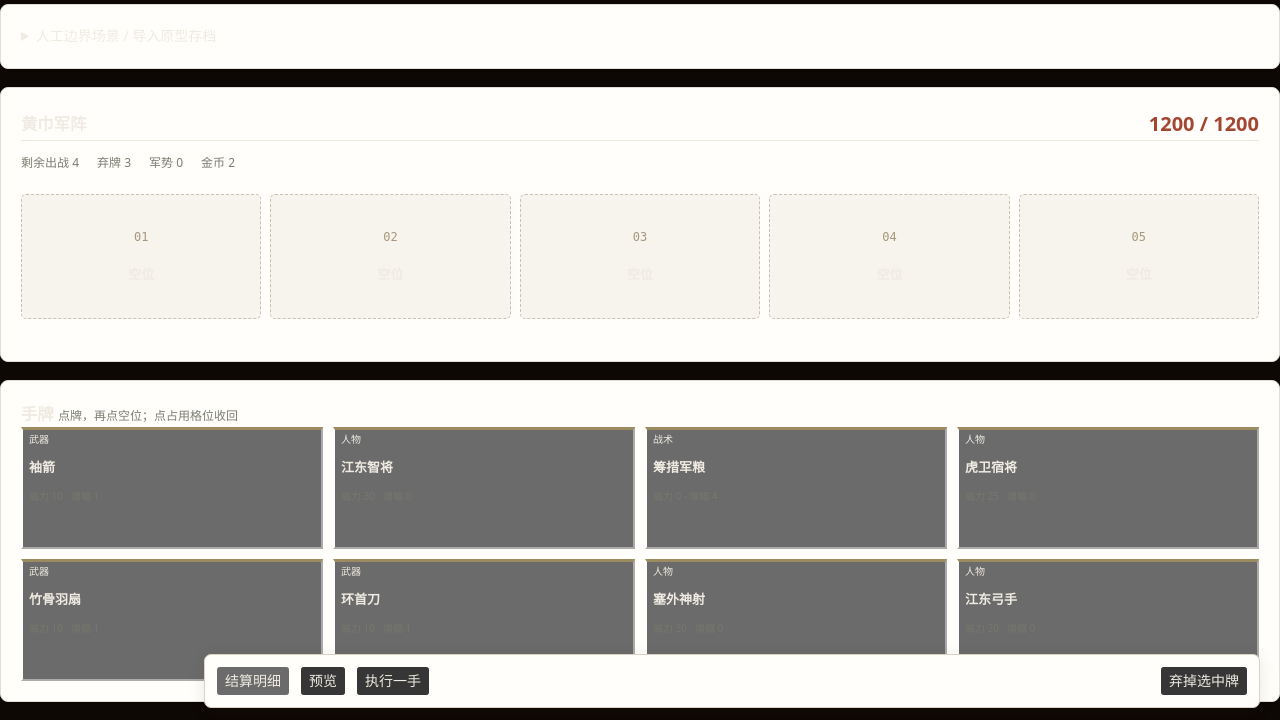
Test case: 实验室主路径 › 手牌点击排阵后可预览并执行真实一手
The image size is (1280, 720).
(page scrolled)
Click the button with aria-label "手牌" at point(78, 496), box [21,427,323,549]
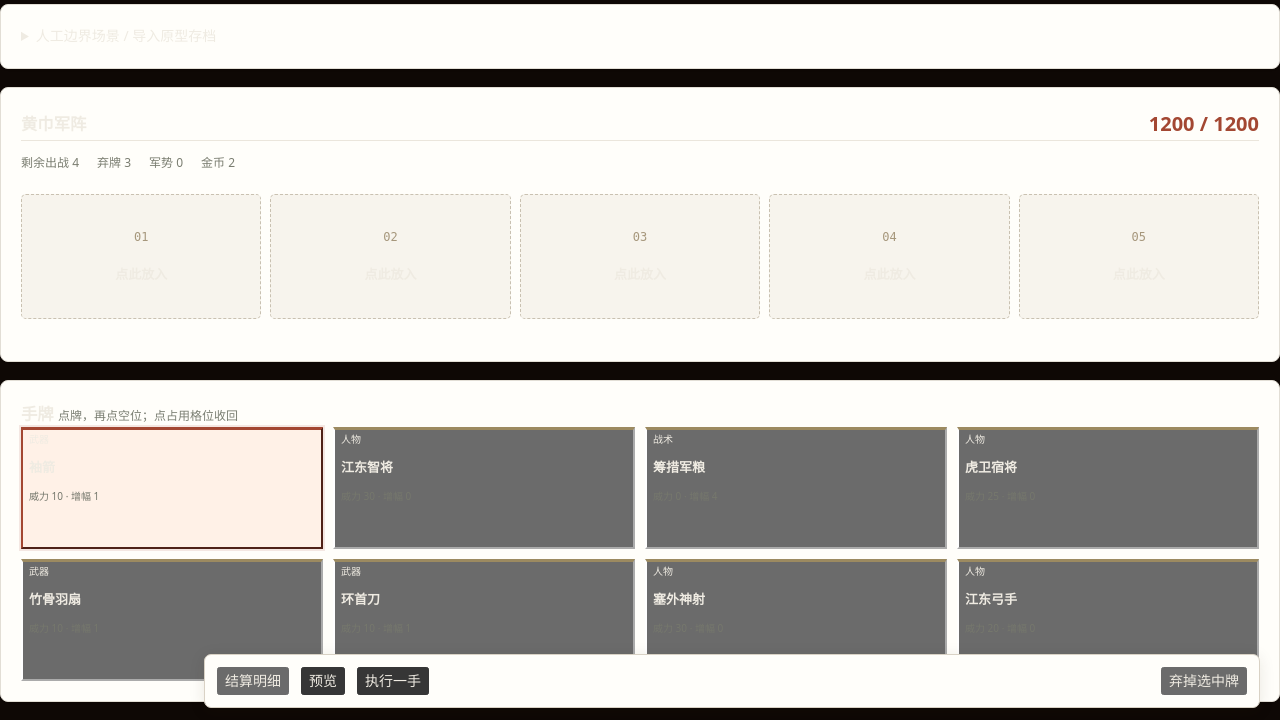
Click the button with aria-label "格位 1：空" at point(141, 256), box [21,194,261,319]
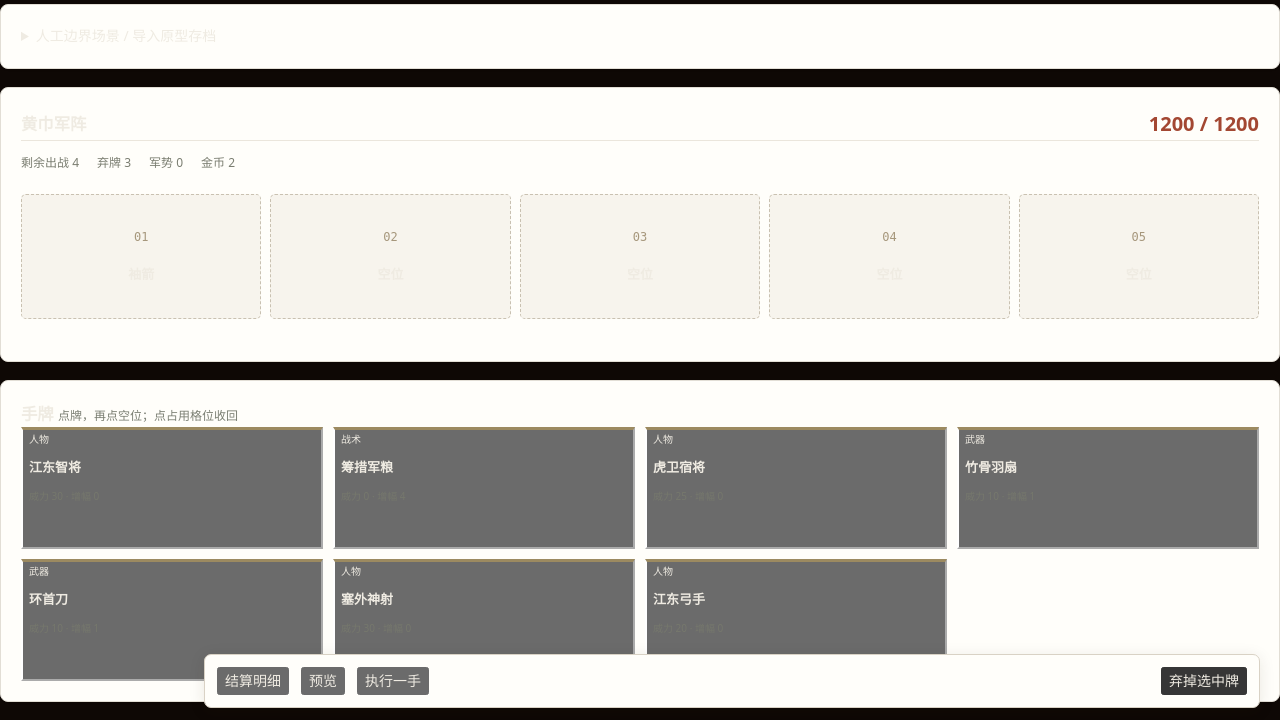
Now the button "预览" is enabled
Click the button "预览" at point(323, 681), box [301,667,345,695]
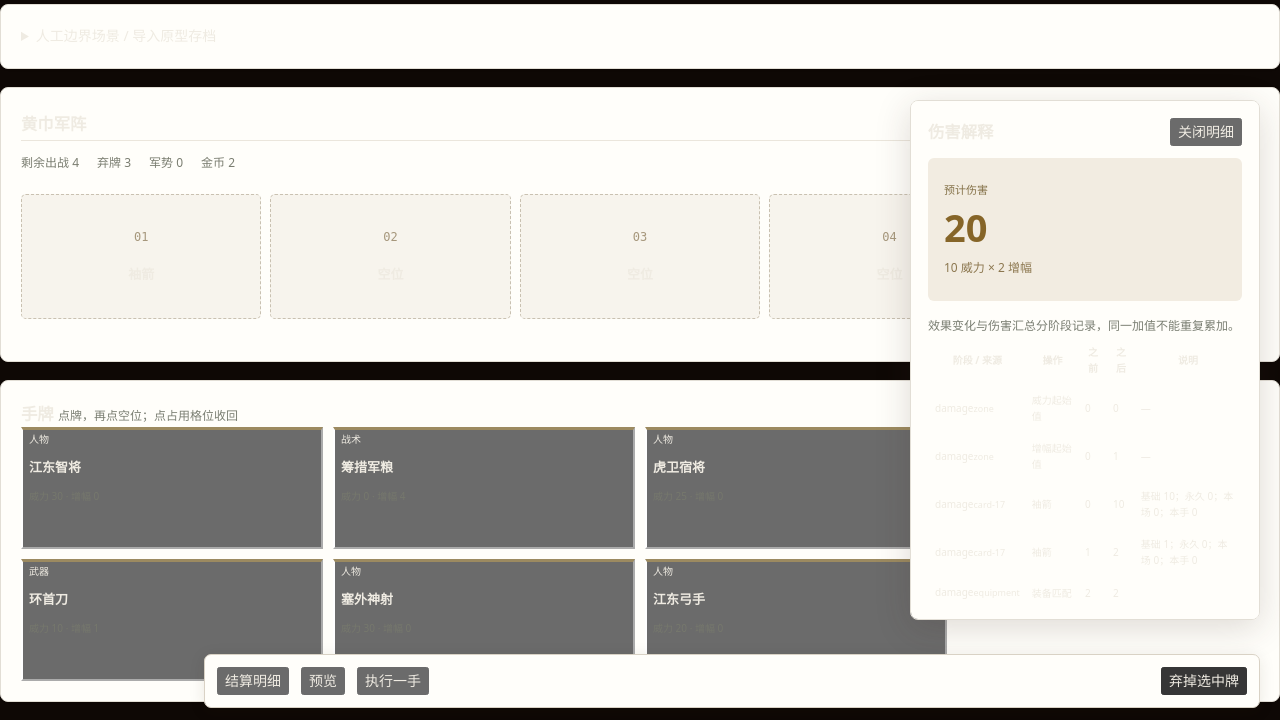
Expected: the text "剩余出战 4" is shown, [21,153,79,172]
Now the text "预计伤害" is shown, box [944,182,988,197]
Click the button "执行一手" at point(393, 681), box [357,667,429,695]
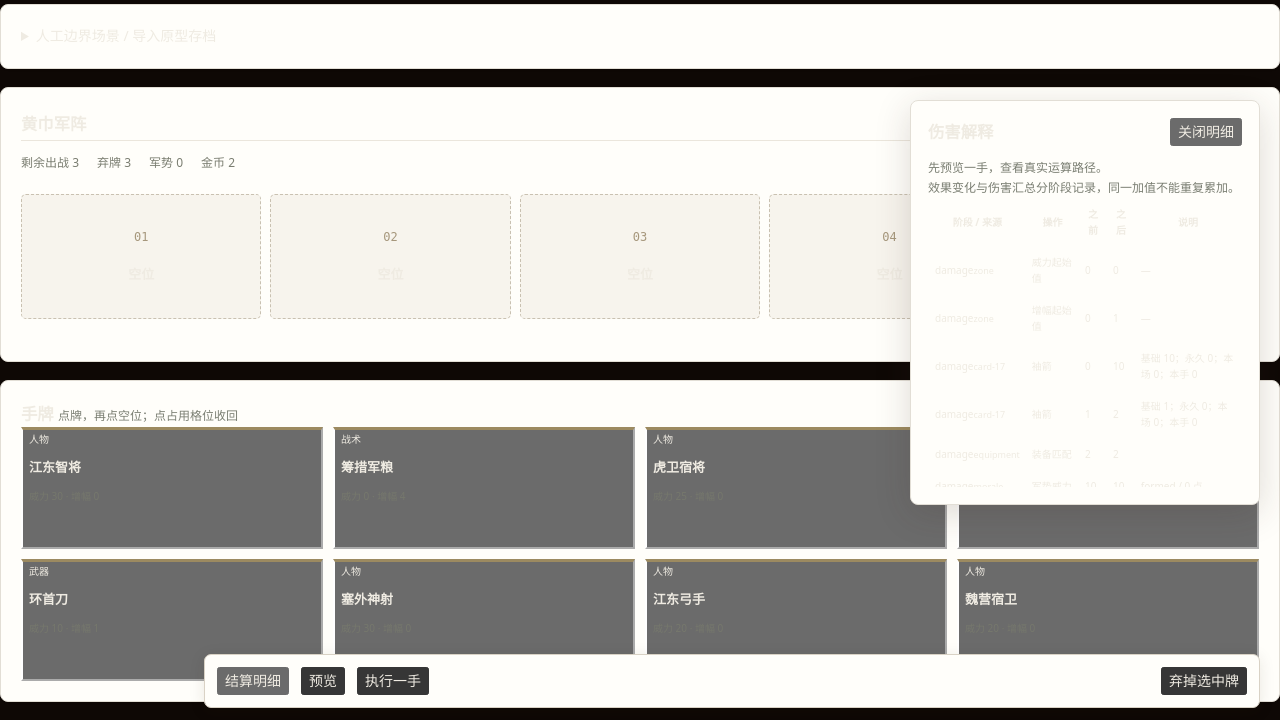
Now the text "剩余出战 3" is shown, box [21,153,79,172]
